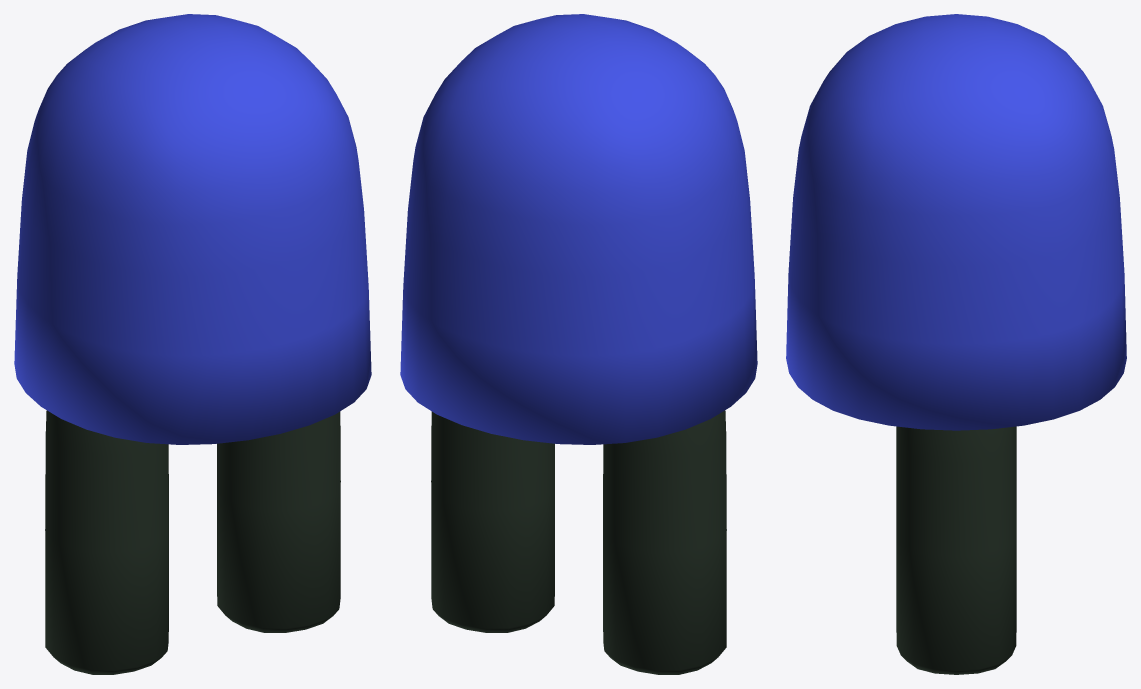
The model's file is NPC003.fbx.
3 renders of one model, left to right at view 1: azimuth 30°, elevation 25°; view 2: azimuth 150°, elevation 25°; view 3: azimuth 270°, elevation 25°, orthographic. The views are drawn at different scales.
Visible parts, largest first — view 1: mesh_TOKEN_reg.007; view 2: mesh_TOKEN_reg.007; view 3: mesh_TOKEN_reg.007.
Part boxes in pixels (left/top/right/bottom): mesh_TOKEN_reg.007: left=14, top=14, right=371, bottom=674; mesh_TOKEN_reg.007: left=400, top=14, right=757, bottom=674; mesh_TOKEN_reg.007: left=786, top=14, right=1126, bottom=674.
Bounding box in the file's own units: 115 × 216 × 115.
